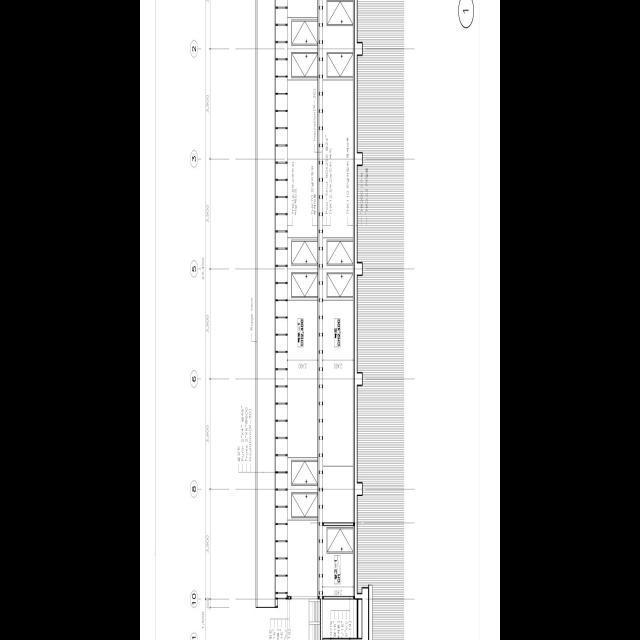background: (140, 0, 500, 640)
space_other: (287, 0, 319, 596), (323, 0, 354, 522), (323, 525, 354, 595)
